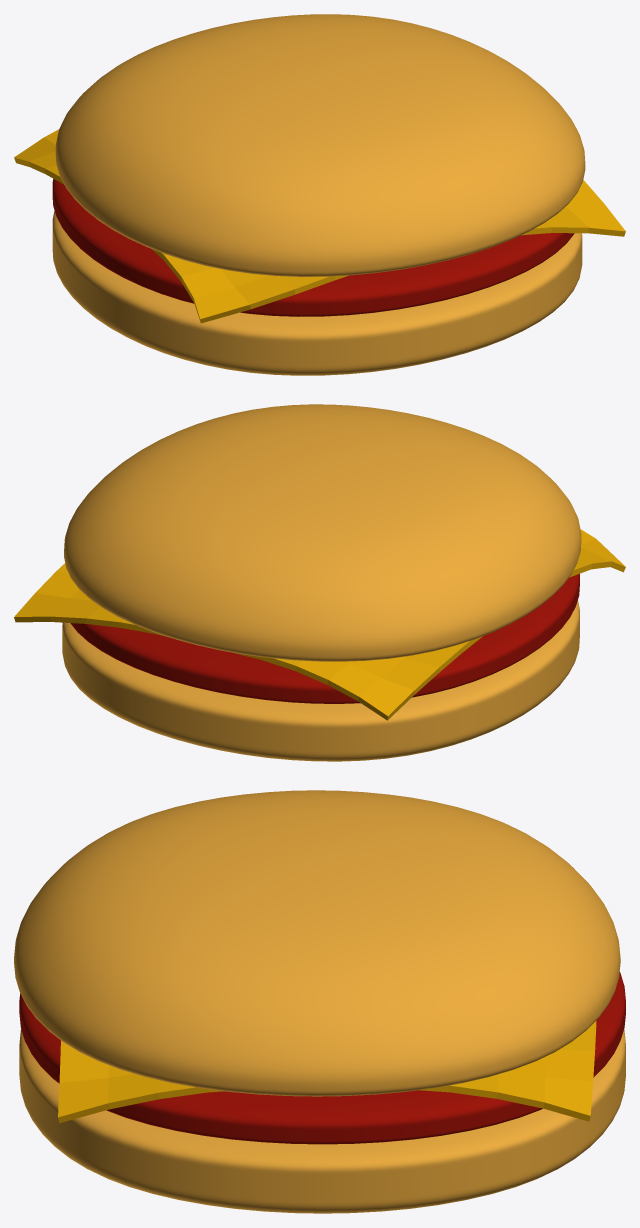
The model's file is burger.gltf.
3 views of the same model, one above another, from view 1: azimuth 30°, elevation 25°; view 2: azimuth 150°, elevation 25°; view 3: azimuth 270°, elevation 25° (orthographic). The views are drawn at different scales.
Parts seen in each view (by area): view 1: Куб.002, Куб.001, Куб, Plane; view 2: Куб.002, Куб.001, Куб, Plane; view 3: Куб.002, Куб.001, Куб, Plane.
Boxes of the visible parts, box(x1,y1,x2,y2) form: Куб.002: box(55, 14, 585, 276); Куб.001: box(52, 210, 582, 375); Куб: box(52, 179, 574, 316); Plane: box(14, 129, 625, 323); Куб.002: box(64, 404, 581, 661); Куб.001: box(62, 600, 579, 761); Куб: box(70, 573, 579, 703); Plane: box(14, 529, 625, 720); Куб.002: box(14, 790, 620, 1096); Куб.001: box(19, 1029, 625, 1213); Куб: box(19, 971, 625, 1144); Plane: box(58, 1021, 596, 1123).
Size of the model in its own units: 4.34 by 1.96 by 4.37.
